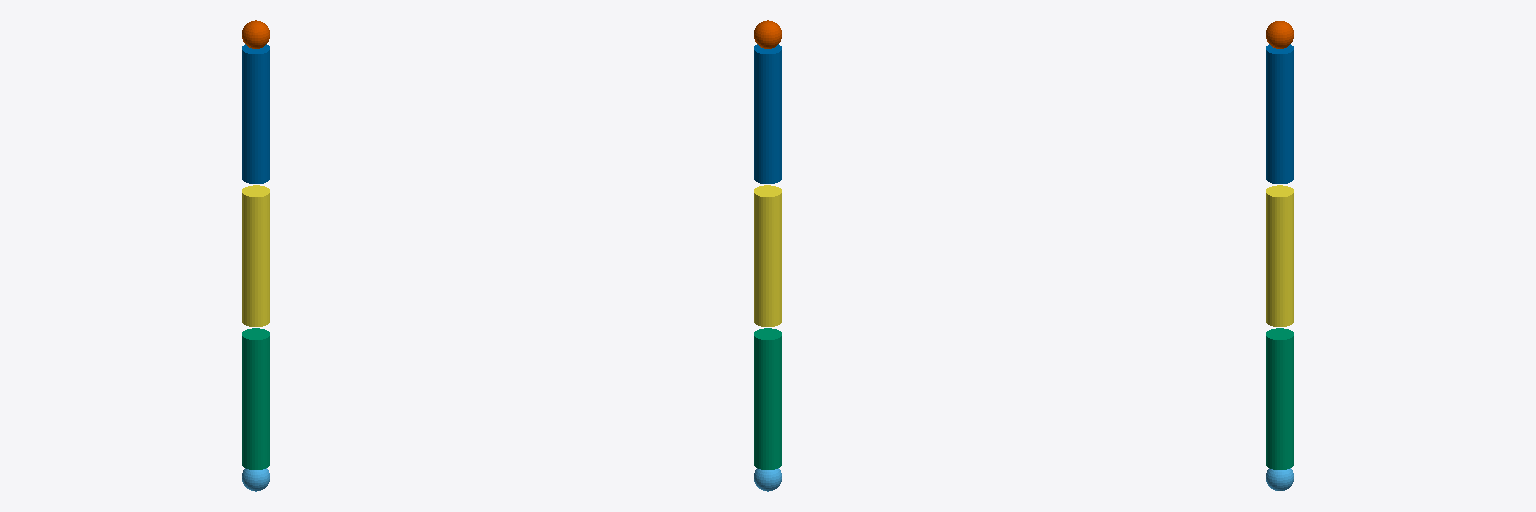
URDF robot description (panda_description):
<?xml version="1.0"?>
<!-- =================================================================================== -->
<!-- |    This document was autogenerated by xacro from panda.urdf.xacro               | -->
<!-- |    EDITING THIS FILE BY HAND IS NOT RECOMMENDED                                 | -->
<!-- =================================================================================== -->
<robot name="panda_description">
  <link name="world"/>
  <joint name="robot_to_world" type="fixed">
    <parent link="world"/>
    <child link="panda_link0"/>
    <origin rpy="0.0 0.0 0.0" xyz="0.0 0.0 0.1"/>
  </joint>
  <!-- end for simulation -->
  <link name="panda_link0">
    <visual>
      <geometry>
        <sphere radius="0.1"/>
      </geometry>
    </visual>
    <collision>
      <geometry>
        <sphere radius="0.1"/>
      </geometry>
    </collision>
    <!-- for simulation -->
    <inertial>
      <origin rpy="0 0 0" xyz="0 0 0.05"/>
      <mass value="1.00"/>
      <inertia ixx="0.25083" ixy="0.0" ixz="0.0" iyy="0.25083" iyz="0.0" izz="0.5"/>
    </inertial>
    <!-- end for simulation -->
  </link>
  <link name="panda_link1">
    <visual>
      <origin xyz="0 0 0.6" rpy="0 0 0"/>
      <geometry>
        <cylinder length="1.0" radius="0.1"/>
      </geometry>
    </visual>
    <collision>
      <origin xyz="0 0 0.6" rpy="0 0 0"/>
      <geometry>
        <cylinder length="1.0" radius="0.1"/>
      </geometry>
    </collision>
    <!-- for simulation -->
    <inertial>
      <origin rpy="0 0 0" xyz="0 0 0.5"/>
      <mass value="1.0"/>
      <inertia ixx="0.0858" ixy="0.0" ixz="0.0" iyy="0.0858" iyz="0.0" izz="0.005"/>
    </inertial>
    <!-- end for simulation -->
  </link>
  <link name="panda_link2">
    <visual>
      <origin xyz="0 0 0.6" rpy="0 0 0"/>
      <geometry>
        <cylinder length="1.0" radius="0.1"/>
      </geometry>
    </visual>
    <collision>
      <origin xyz="0 0 0.6" rpy="0 0 0"/>
      <geometry>
        <cylinder length="1.0" radius="0.1"/>
      </geometry>
    </collision>
    <!-- for simulation -->
    <inertial>
      <origin rpy="0 0 0" xyz="0 0 0.5"/>
      <mass value="1.0"/>
      <inertia ixx="0.0858" ixy="0.0" ixz="0.0" iyy="0.0858" iyz="0.0" izz="0.005"/>
    </inertial>
    <!-- end for simulation -->
  </link>
  <link name="panda_link3">
    <visual>
      <origin xyz="0 0 0.6" rpy="0 0 0"/>
      <geometry>
        <cylinder length="1.0" radius="0.1"/>
      </geometry>
    </visual>
    <collision>
      <origin xyz="0 0 0.6" rpy="0 0 0"/>
      <geometry>
        <cylinder length="1.0" radius="0.1"/>
      </geometry>
    </collision>
    <!-- for simulation -->
    <inertial>
      <origin rpy="0 0 0" xyz="0 0 0.5"/>
      <mass value="1.0"/>
      <inertia ixx="0.0858" ixy="0.0" ixz="0.0" iyy="0.0858" iyz="0.0" izz="0.005"/>
    </inertial>
    <!-- end for simulation -->
  </link>
  <joint name="panda_joint1" type="revolute">
    <safety_controller k_position="100.0" k_velocity="40.0" soft_lower_limit="-2.8973" soft_upper_limit="2.8973"/>
    <origin rpy="0 0 0" xyz="0 0 0.0"/>
    <parent link="panda_link0"/>
    <child link="panda_link1"/>
    <axis xyz="1 0 0"/>
    <limit effort="87" lower="-2.8973" upper="2.8973" velocity="2.1750"/>
    <!-- for simulation -->
    <dynamics damping="0.0" friction="0.0"/>
    <!-- end for simulation -->
  </joint>
  <joint name="panda_joint2" type="revolute">
    <safety_controller k_position="100.0" k_velocity="40.0" soft_lower_limit="-2.8973" soft_upper_limit="2.8973"/>
    <origin rpy="0 0 0" xyz="0 0 1.1"/>
    <parent link="panda_link1"/>
    <child link="panda_link2"/>
    <axis xyz="0 1 0"/>
    <limit effort="87" lower="-2.8973" upper="2.8973" velocity="2.1750"/>
    <!-- for simulation -->
    <dynamics damping="0.0" friction="0.0"/>
    <!-- end for simulation -->
  </joint>
  <joint name="panda_joint3" type="revolute">
    <safety_controller k_position="100.0" k_velocity="40.0" soft_lower_limit="-2.8973" soft_upper_limit="2.8973"/>
    <origin rpy="0 0 0" xyz="0 0 1.1"/>
    <parent link="panda_link2"/>
    <child link="panda_link3"/>
    <axis xyz="1 0 0"/>
    <limit effort="87" lower="-2.8973" upper="2.8973" velocity="2.1750"/>
    <!-- for simulation -->
    <dynamics damping="0.0" friction="0.0"/>
    <!-- end for simulation -->
  </joint>
  <link name="panda_link4">
    <visual>
      <origin xyz="0 0 0.005" rpy="0 0 0"/>
      <geometry>
        <sphere radius="0.1"/>
      </geometry>
    </visual>
    <collision>
      <geometry>
        <sphere radius="0.01"/>
      </geometry>
    </collision>
    <!-- for simulation -->
    <inertial>
      <origin rpy="0 0 0" xyz="0 0 0.005"/>
      <mass value="0.0001"/>
      <inertia ixx="0.00005" ixy="0.0" ixz="0.0" iyy="0.00005" iyz="0.0" izz="0.00005"/>
    </inertial>
    <!-- end for simulation -->
  </link>
  <joint name="panda_joint4" type="fixed">
    <origin rpy="0 0 0" xyz="0 0 1.2"/>
    <parent link="panda_link3"/>
    <child link="panda_link4"/>
    <axis xyz="0 0 1"/>
  </joint>
  <!-- end for simulation -->
</robot>

--- Facts derived from the render (not from the file) ---
The picture shows the robot from 3 angles, left to right: view 1: azimuth 30°, elevation 25°; view 2: azimuth 150°, elevation 25°; view 3: azimuth 270°, elevation 25°; orthographic projection.
Robot: panda_description — 6 links, 5 joints (3 revolute, 2 fixed); root link world; default pose: every joint at zero.
Visible links, largest first — view 1: panda_link1, panda_link2, panda_link3, panda_link4, panda_link0; view 2: panda_link1, panda_link2, panda_link3, panda_link4, panda_link0; view 3: panda_link1, panda_link2, panda_link3, panda_link4, panda_link0.
Link boxes in pixels (left/top/right/bottom): panda_link1: left=242, top=328, right=269, bottom=469; panda_link2: left=242, top=185, right=269, bottom=326; panda_link3: left=242, top=44, right=269, bottom=183; panda_link4: left=242, top=20, right=269, bottom=48; panda_link0: left=242, top=468, right=269, bottom=491; panda_link1: left=754, top=328, right=781, bottom=469; panda_link2: left=754, top=185, right=781, bottom=326; panda_link3: left=754, top=44, right=781, bottom=183; panda_link4: left=754, top=20, right=781, bottom=48; panda_link0: left=754, top=468, right=781, bottom=491; panda_link1: left=1266, top=328, right=1293, bottom=469; panda_link2: left=1266, top=185, right=1293, bottom=326; panda_link3: left=1266, top=44, right=1293, bottom=183; panda_link4: left=1266, top=21, right=1293, bottom=48; panda_link0: left=1266, top=468, right=1293, bottom=490.
Size in the robot's own frame: 0.2 by 0.2 by 3.6 metres.
Geometry: primitives only (box / cylinder / sphere), no mesh files.